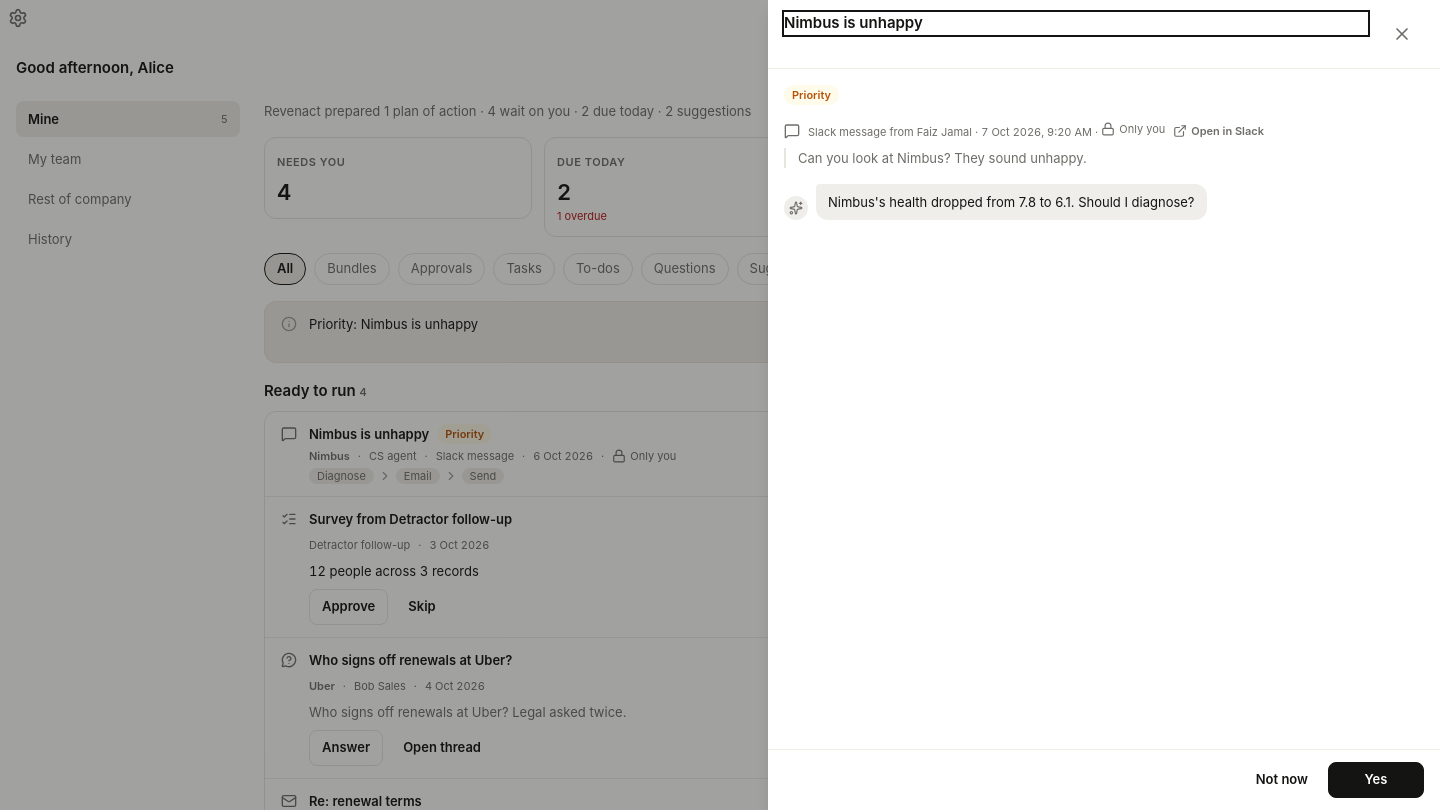
Test: Guided conversation (guided agent, 2026-10-18) › takes the bundle a NOT_NEXT refusal carries and says why
This screenshot has width=1440, height=810.
Click the button "Yes" at x=1376, y=780, box [1328,762,1424,798]
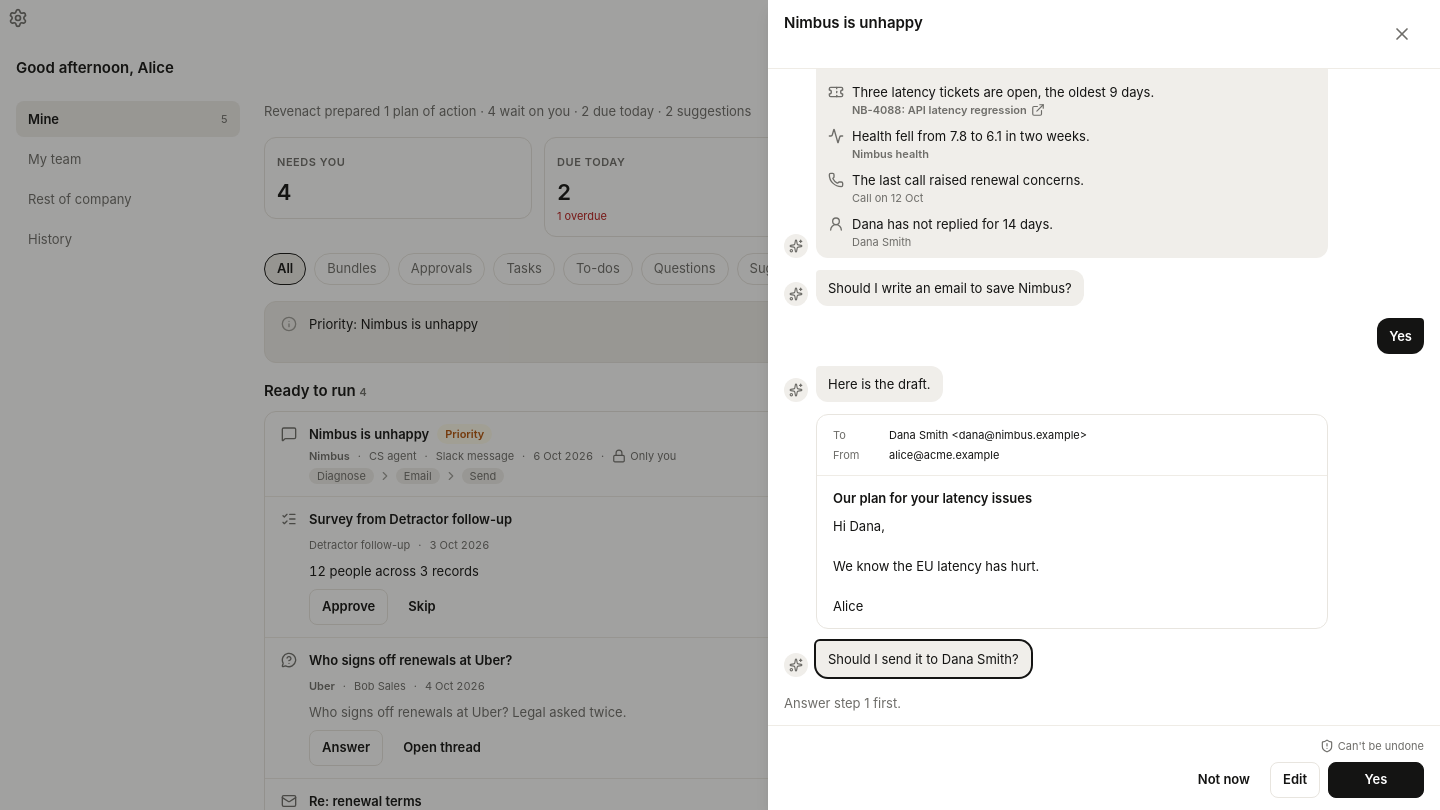
Expected: the text "Should I send it to Dana Smith?" is shown, [828,649,1019,669]
